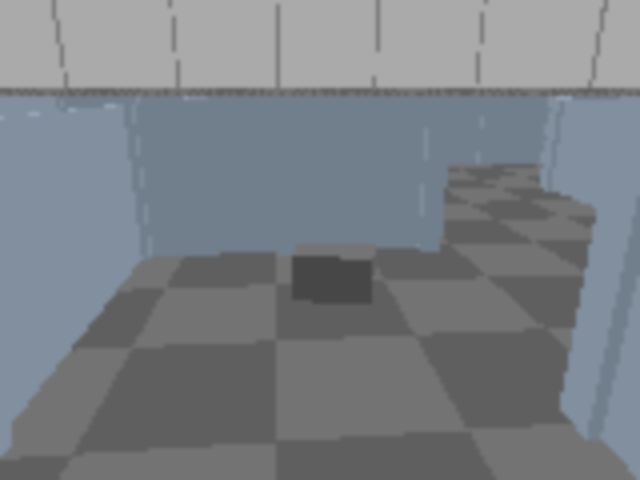obstacle: (292, 242, 375, 306)
